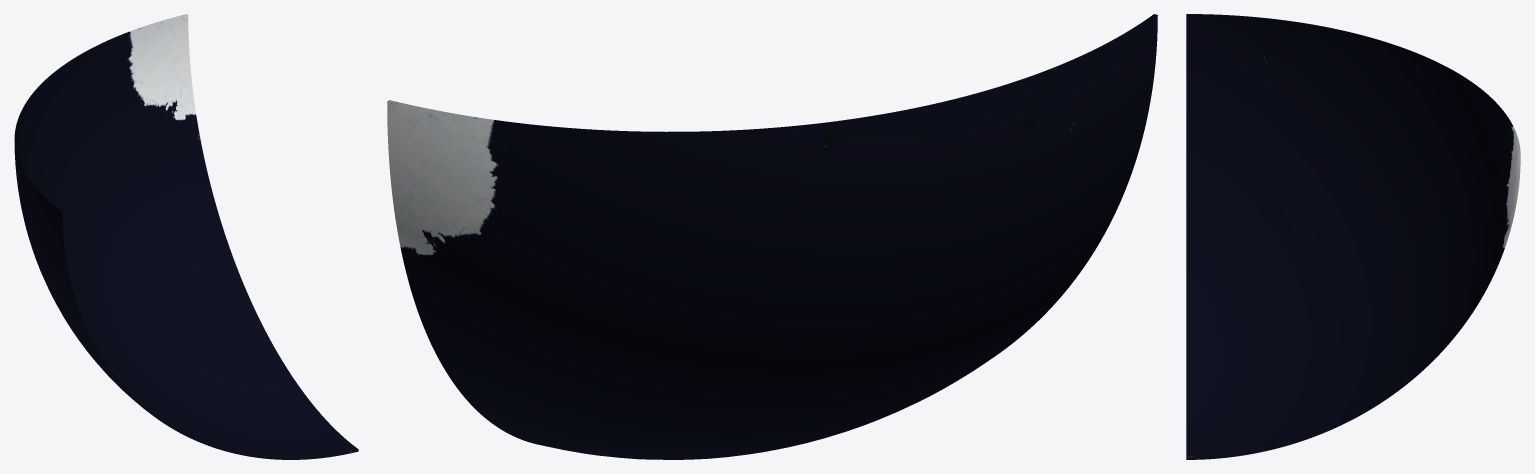
3 renders of one model, left to right at view 1: azimuth 30°, elevation 25°; view 2: azimuth 150°, elevation 25°; view 3: azimuth 270°, elevation 25°, orthographic. The views are drawn at different scales.
Parts seen in each view (by area): view 1: DefaultName.008, DefaultName.005, DefaultName.002, DefaultName.011; view 2: DefaultName.011, DefaultName.002, DefaultName.005, DefaultName.008; view 3: DefaultName.011, DefaultName.008, DefaultName.002, DefaultName.005.
Boxes of the visible parts, x1,y1,x2,y2 form: DefaultName.008: (88, 244, 358, 459); DefaultName.005: (88, 15, 237, 277); DefaultName.002: (26, 14, 187, 243); DefaultName.011: (14, 102, 148, 411); DefaultName.011: (715, 14, 1157, 387); DefaultName.002: (387, 100, 816, 356); DefaultName.005: (387, 102, 714, 413); DefaultName.008: (470, 344, 1011, 459); DefaultName.011: (1186, 14, 1422, 270); DefaultName.008: (1186, 236, 1422, 459); DefaultName.002: (1421, 55, 1520, 236); DefaultName.005: (1420, 156, 1520, 370).
Bounding box in the file's own units: 63781 × 63781 × 63568.
Materials: 4 (4 with a texture image).
